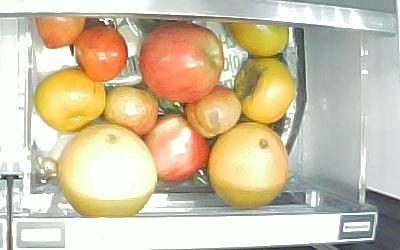apple: (138, 21, 224, 103), (140, 112, 210, 184)
grapefruit: (58, 121, 157, 219), (208, 122, 288, 209)
persimmon: (33, 67, 106, 132), (231, 57, 296, 124), (225, 19, 290, 57)
prune: (72, 25, 128, 83), (102, 85, 159, 139), (184, 85, 241, 138), (34, 14, 88, 49)
